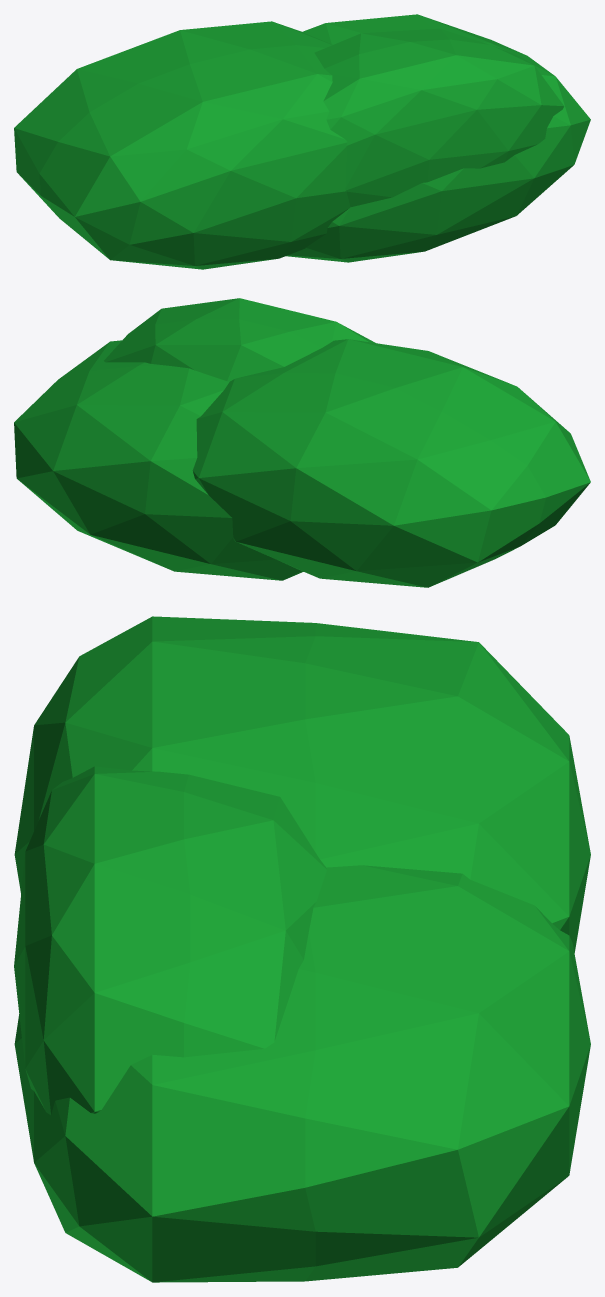
The model's file is Bush.fbx.
The picture shows the model from 3 angles, top to bottom: view 1: azimuth 30°, elevation 25°; view 2: azimuth 150°, elevation 25°; view 3: azimuth 270°, elevation 25°; orthographic projection. The views are drawn at different scales.
Parts seen in each view (by area): view 1: Icosphere.002; view 2: Icosphere.002; view 3: Icosphere.002.
Boxes of the visible parts, bbox=[...] form: Icosphere.002: bbox=[14, 14, 590, 269]; Icosphere.002: bbox=[14, 298, 590, 587]; Icosphere.002: bbox=[14, 616, 590, 1282].
Size of the model in its own units: 775 by 284 by 394.
Materials: 1 (1 with a texture image).
